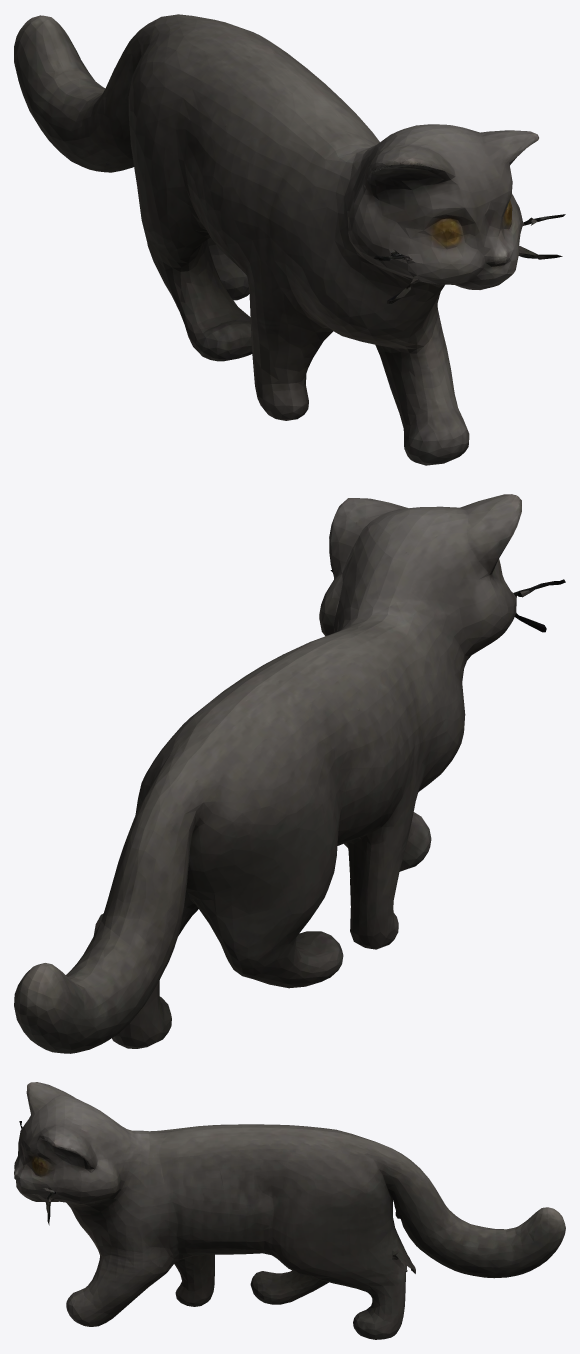
The picture shows the model from 3 angles, top to bottom: view 1: azimuth 30°, elevation 25°; view 2: azimuth 150°, elevation 25°; view 3: azimuth 270°, elevation 25°; orthographic projection. The views are drawn at different scales.
Visible parts, largest first — view 1: geometry_0; view 2: geometry_0; view 3: geometry_0.
Part boxes in pixels (<box>): geometry_0: <box>14,14,565,465</box>; geometry_0: <box>14,494,565,1053</box>; geometry_0: <box>14,1082,565,1339</box>.
Size of the model in its own units: 0.2756 by 0.4478 by 0.9975.
Materials: 1 (1 with a texture image).
